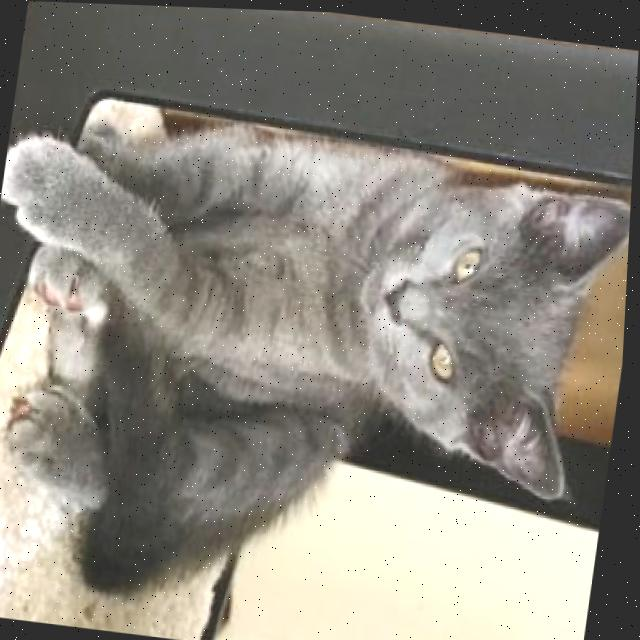Russian Blue: (0, 86, 636, 640)
